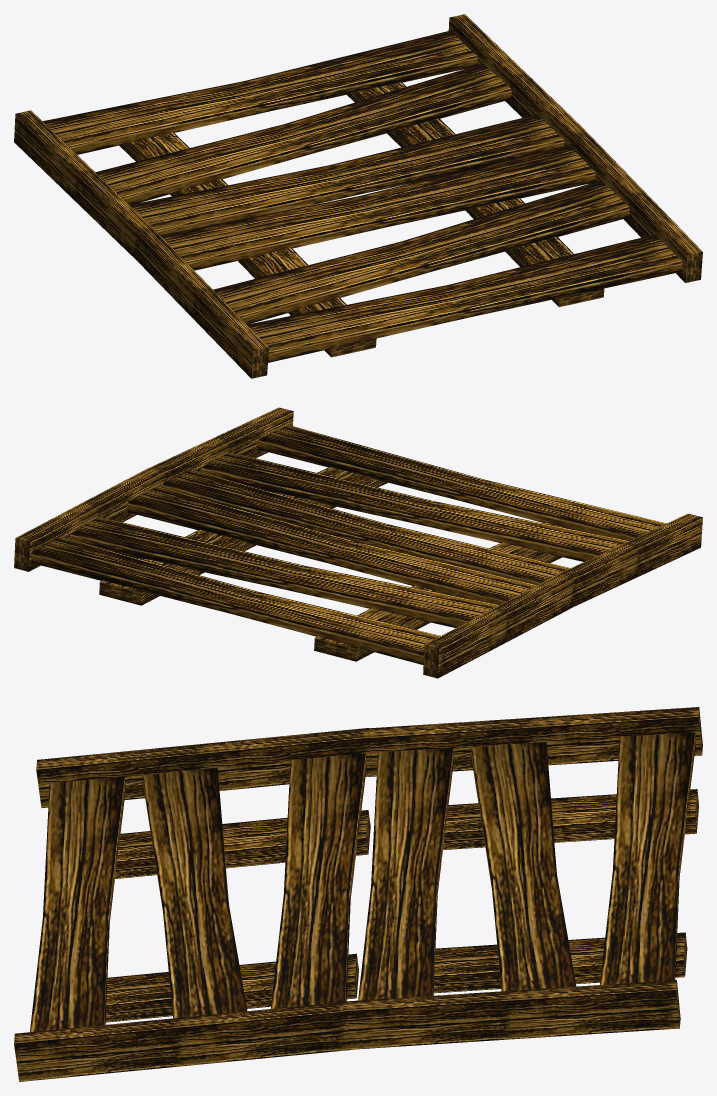
Rendered from RM_WPOOL_PLATFORM01.obj.
The picture shows the model from 3 angles, top to bottom: view 1: azimuth 30°, elevation 25°; view 2: azimuth 150°, elevation 25°; view 3: azimuth 270°, elevation 25°; orthographic projection. The views are drawn at different scales.
Parts seen in each view (by area): view 1: pool_platform05; view 2: pool_platform05; view 3: pool_platform05.
Boxes of the visible parts, x1,y1,x2,y2 form: pool_platform05: (14,14,702,378); pool_platform05: (14,407,702,678); pool_platform05: (14,707,702,1081).
Size of the model in its own units: 370 by 63.43 by 371.
